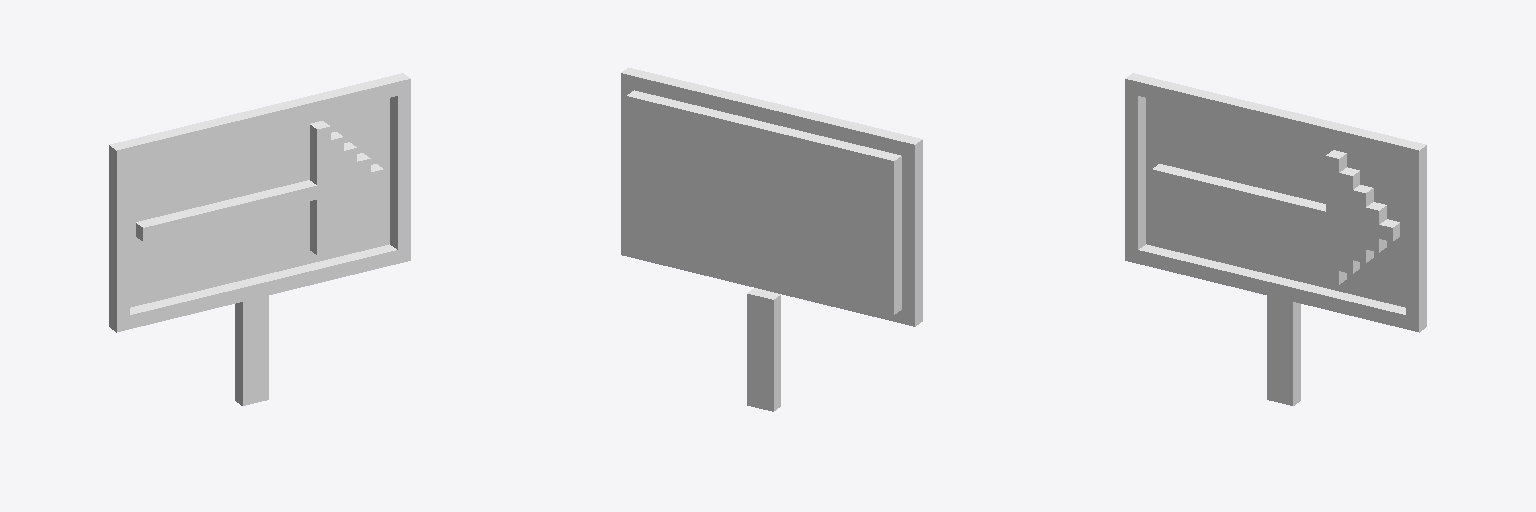
Rendered from Panneau2.obj.
3 views of the same model, side by side, from view 1: azimuth 30°, elevation 25°; view 2: azimuth 150°, elevation 25°; view 3: azimuth 330°, elevation 25° (orthographic).
Parts seen in each view (by area): view 1: Panneau2; view 2: Panneau2; view 3: Panneau2.
Boxes of the visible parts, <box> form: Panneau2: <box>109,73,410,405</box>; Panneau2: <box>621,67,922,411</box>; Panneau2: <box>1125,73,1426,405</box>.
Size of the model in its own units: 22 by 21 by 2.